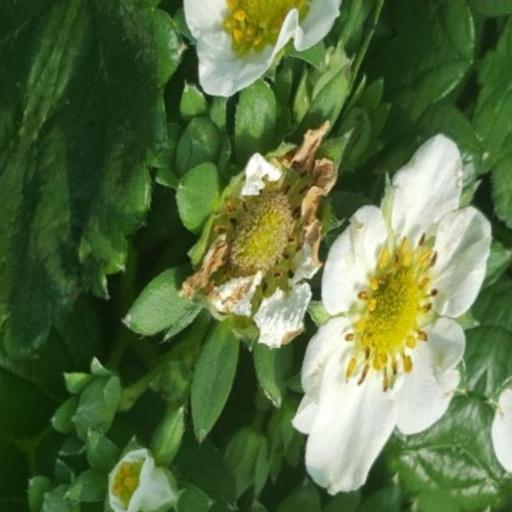Blossom Blight: (64, 163, 152, 338), (211, 212, 310, 364)
